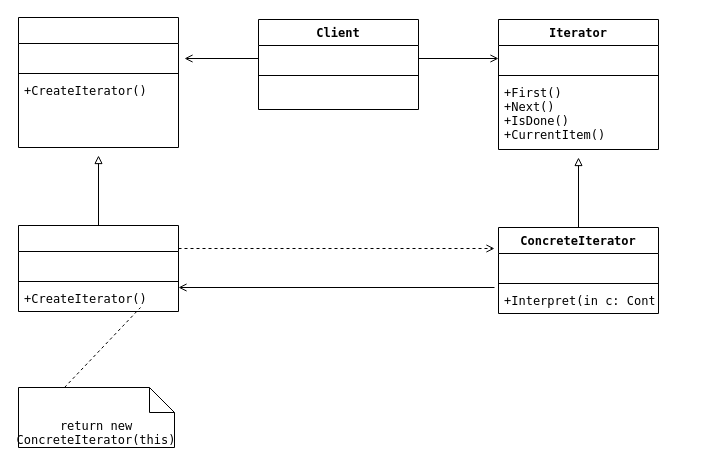
Image size: 701x466. Some labels were removed from this diagram. Each missing label, with the box of its shape:
Aggregate: (18, 16, 178, 148)
ConcreteAggregate: (18, 224, 178, 312)
